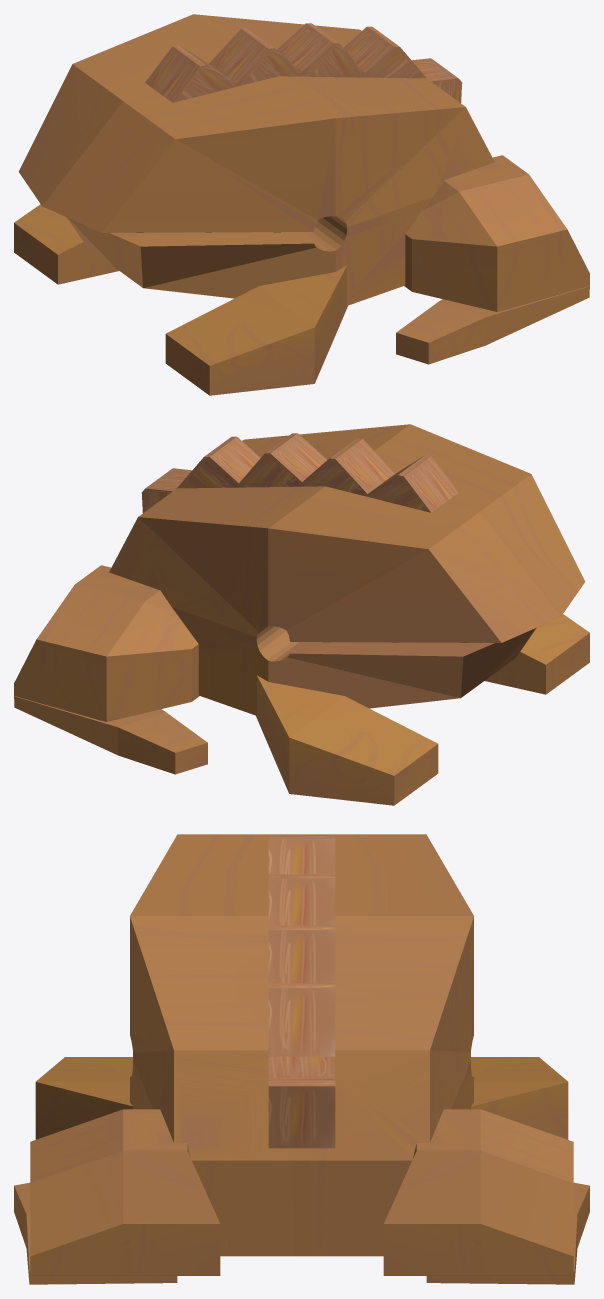
The picture shows the model from 3 angles, top to bottom: view 1: azimuth 30°, elevation 25°; view 2: azimuth 150°, elevation 25°; view 3: azimuth 270°, elevation 25°; orthographic projection. The views are drawn at different scales.
Visible parts, largest first — view 1: pCube8, group4_pasted__group2_pasted__pasted__group1_pasted__pasted_; view 2: pCube8, group4_pasted__group2_pasted__pasted__group1_pasted__pasted_; view 3: pCube8, group4_pasted__group2_pasted__pasted__group1_pasted__pasted_.
Part boxes in pixels (x1,y1,x2,y2): pCube8: (14,14,589,395); group4_pasted__group2_pasted__pasted__group1_pasted__pasted_: (145,23,462,102); pCube8: (14,424,589,805); group4_pasted__group2_pasted__pasted__group1_pasted__pasted_: (141,433,458,512); pCube8: (14,834,589,1284); group4_pasted__group2_pasted__pasted__group1_pasted__pasted_: (268,835,335,1148).
Bounding box in the file's own units: 2.38 × 1.32 × 2.25.
Materials: 2 (2 with a texture image).
